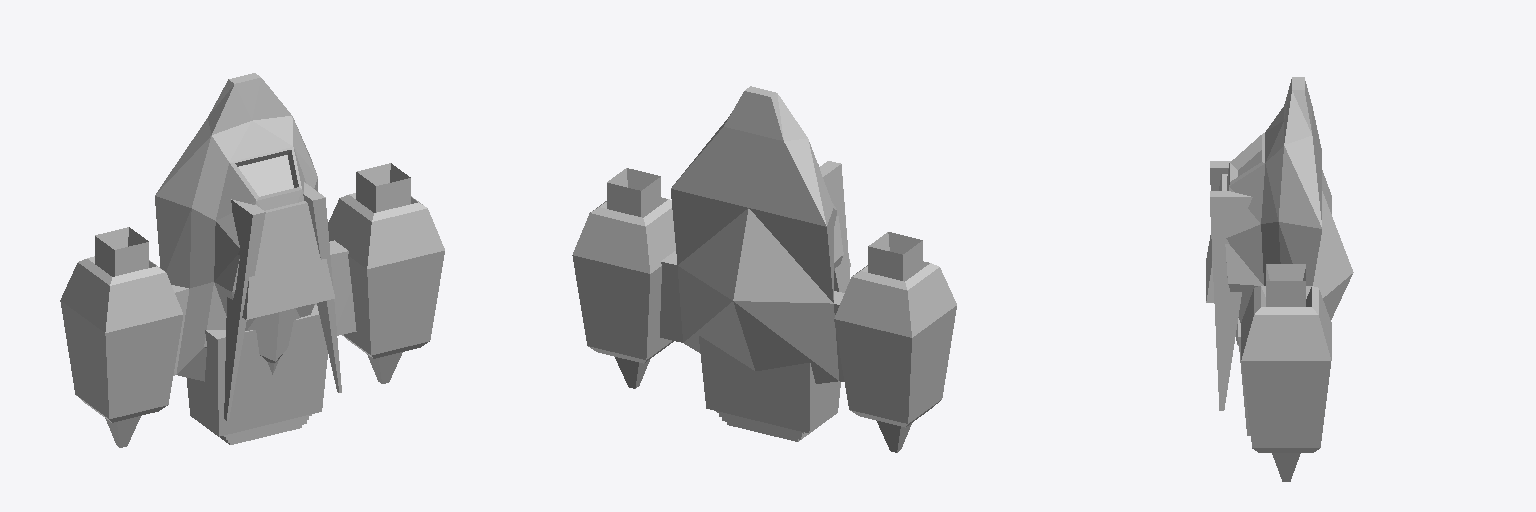
Rendered from spaceship.obj.
3 views of the same model, side by side, from view 1: azimuth 30°, elevation 25°; view 2: azimuth 150°, elevation 25°; view 3: azimuth 270°, elevation 25° (orthographic).
Bounding box in the file's own units: 8.7 × 8.38 × 3.27.